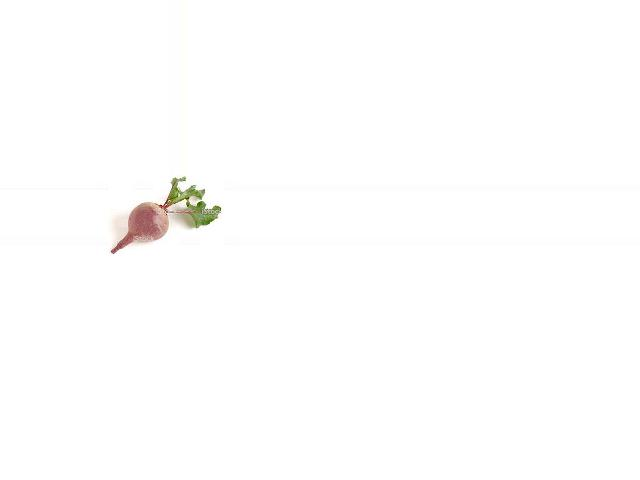beet: (111, 176, 221, 253)
